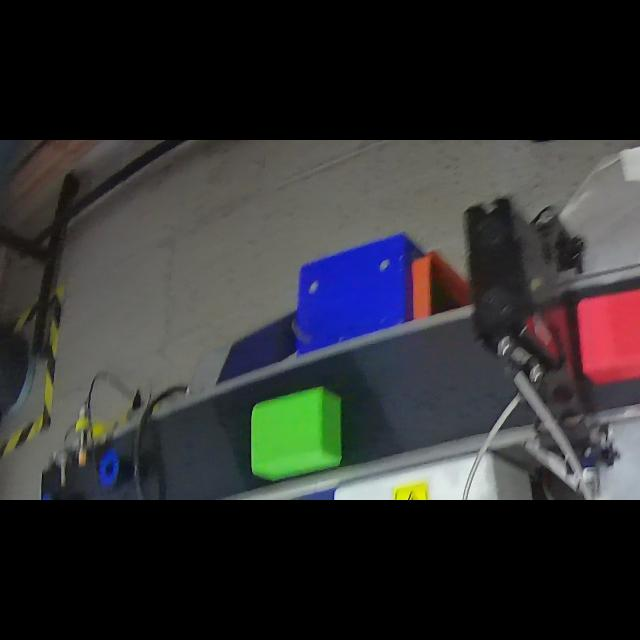greenBox: (243, 388, 345, 484)
redBox: (564, 278, 640, 382)
